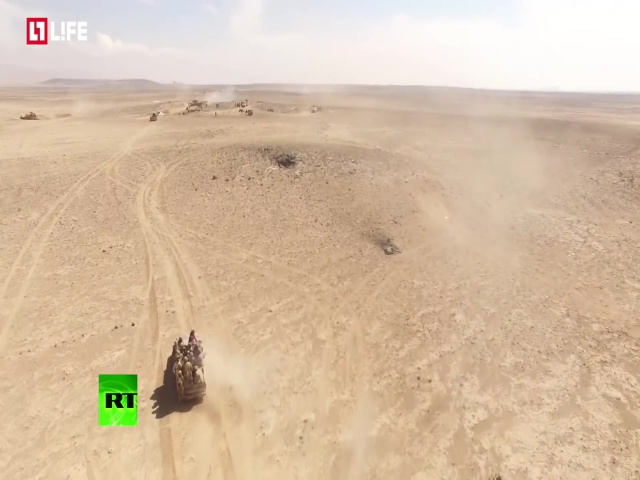vehicle: (165, 330, 207, 408)
